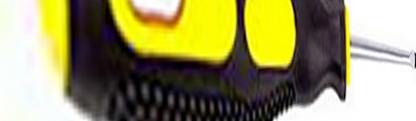Screwdriver: (33, 1, 416, 121)
